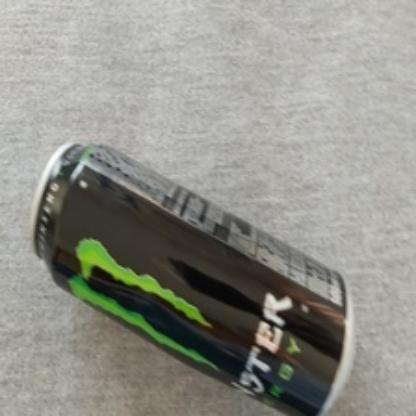Can: (30, 140, 354, 416)
